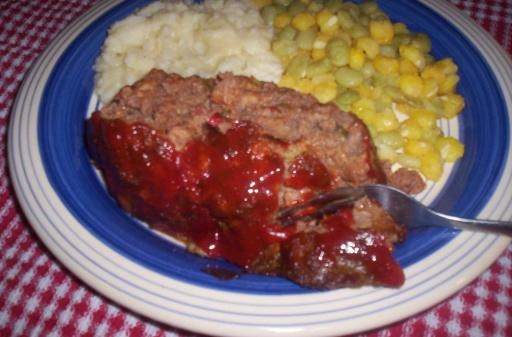background: (67, 0, 372, 152)
